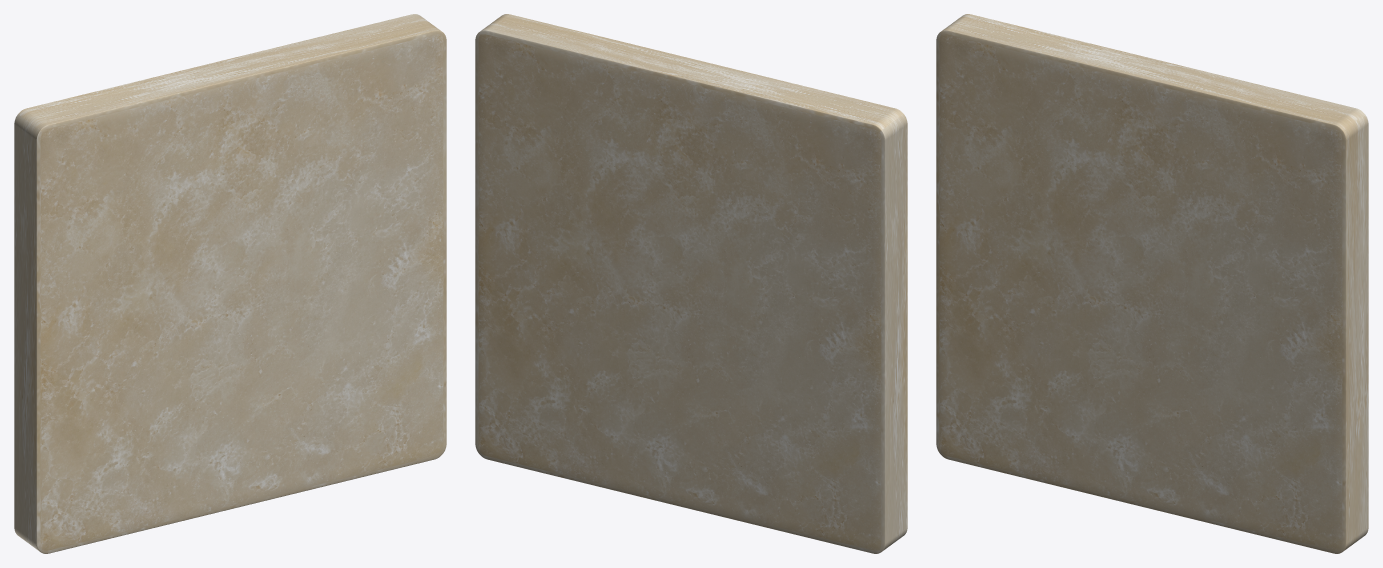
File: limestone-07.glb
The picture shows the model from 3 angles, left to right: view 1: azimuth 30°, elevation 25°; view 2: azimuth 150°, elevation 25°; view 3: azimuth 330°, elevation 25°; orthographic projection.
Visible parts, largest first — view 1: Cube; view 2: Cube; view 3: Cube.
Part boxes in pixels (x1,y1,x2,y2): Cube: (14,14,446,553); Cube: (475,14,907,553); Cube: (936,14,1368,553).
Bounding box in the file's own units: 0.1 × 0.1 × 0.01.
2 materials, 2 textured.
